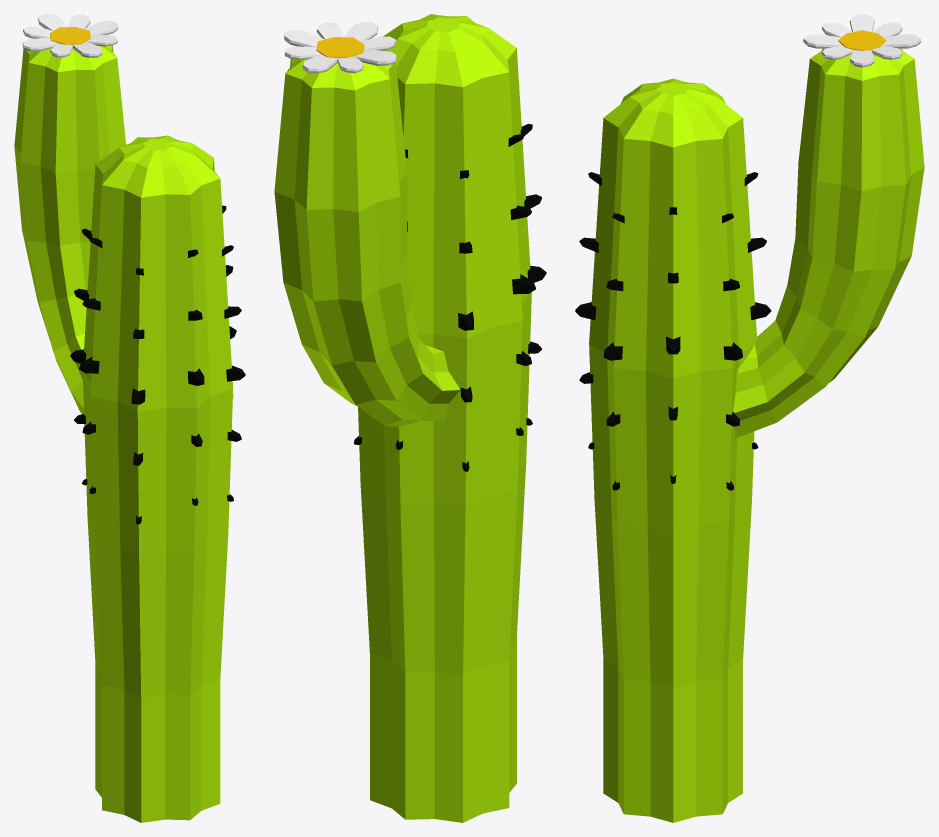
File: Cardon03_01Brazo_Flor_Blanca.fbx
3 views of the same model, side by side, from view 1: azimuth 30°, elevation 25°; view 2: azimuth 150°, elevation 25°; view 3: azimuth 270°, elevation 25° (orthographic). The views are drawn at different scales.
Visible parts, largest first — view 1: Cactus_Cuerpo, Espinas, Flor_Blanca; view 2: Cactus_Cuerpo, Flor_Blanca, Espinas; view 3: Cactus_Cuerpo, Flor_Blanca, Espinas.
Part boxes in pixels (box(x1,y1,x2,y2)): Cactus_Cuerpo: box(14, 45, 233, 822); Espinas: box(70, 205, 245, 524); Flor_Blanca: box(22, 14, 118, 57); Cactus_Cuerpo: box(274, 14, 531, 822); Flor_Blanca: box(284, 21, 396, 73); Espinas: box(354, 123, 546, 471); Cactus_Cuerpo: box(589, 48, 924, 822); Flor_Blanca: box(803, 14, 921, 67); Espinas: box(575, 172, 771, 490).
Bounding box in the file's own units: 53.18 × 226 × 94.85.
